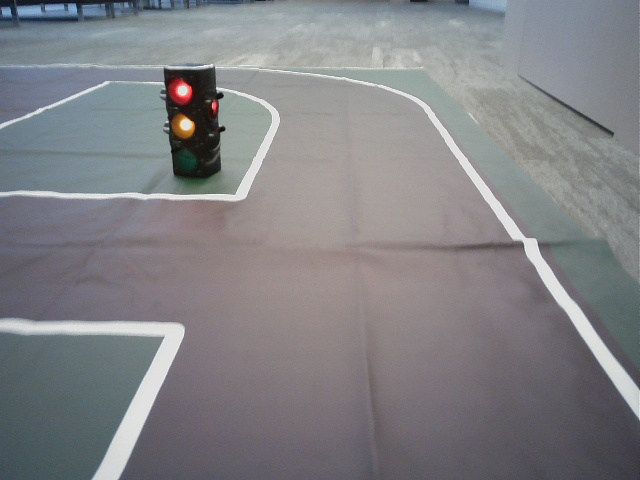red: (166, 71, 200, 174)
